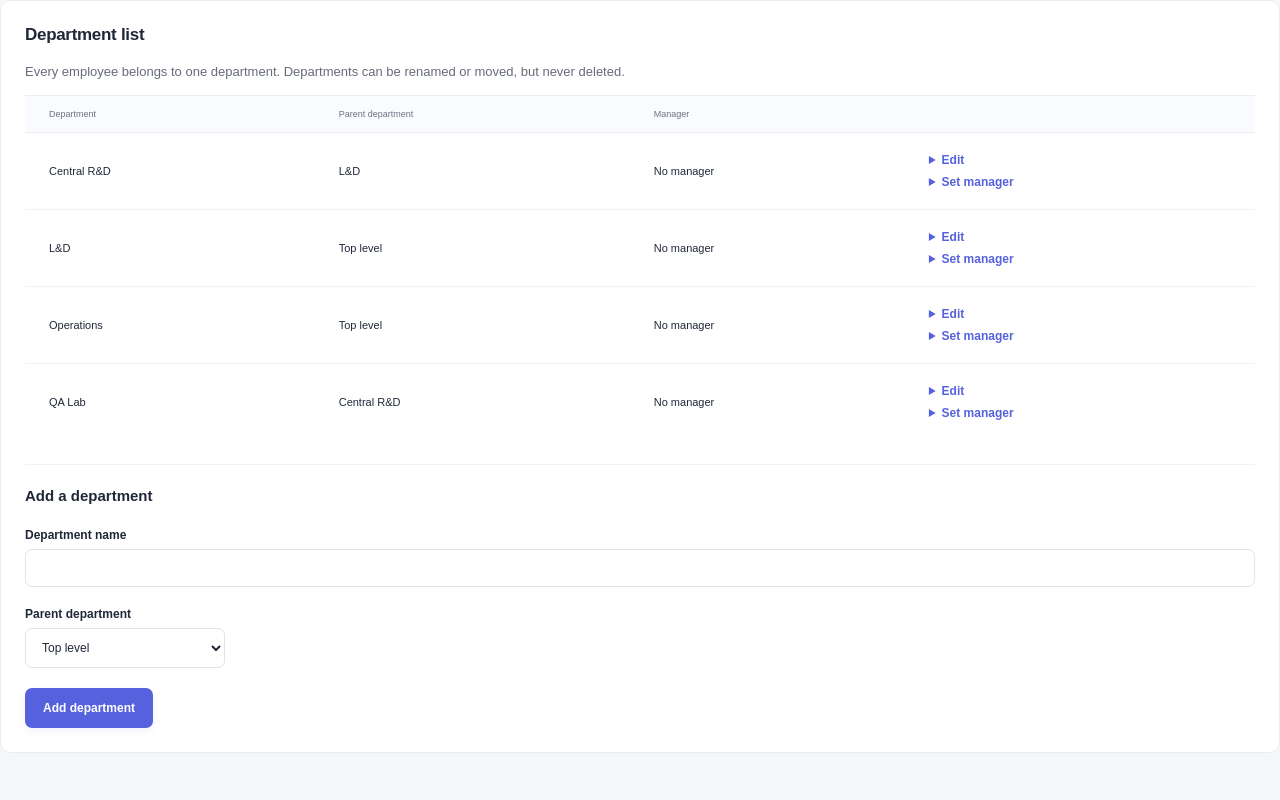
Test: DepartmentsPanel › keeps the typed name and parent after a refusal, so they can be corrected; clears them after a success
The image size is (1280, 800).
Type "central r&d" into the field labelled "Department name".
click(640, 568); type("central r&d")  # box [25,549,1255,587]
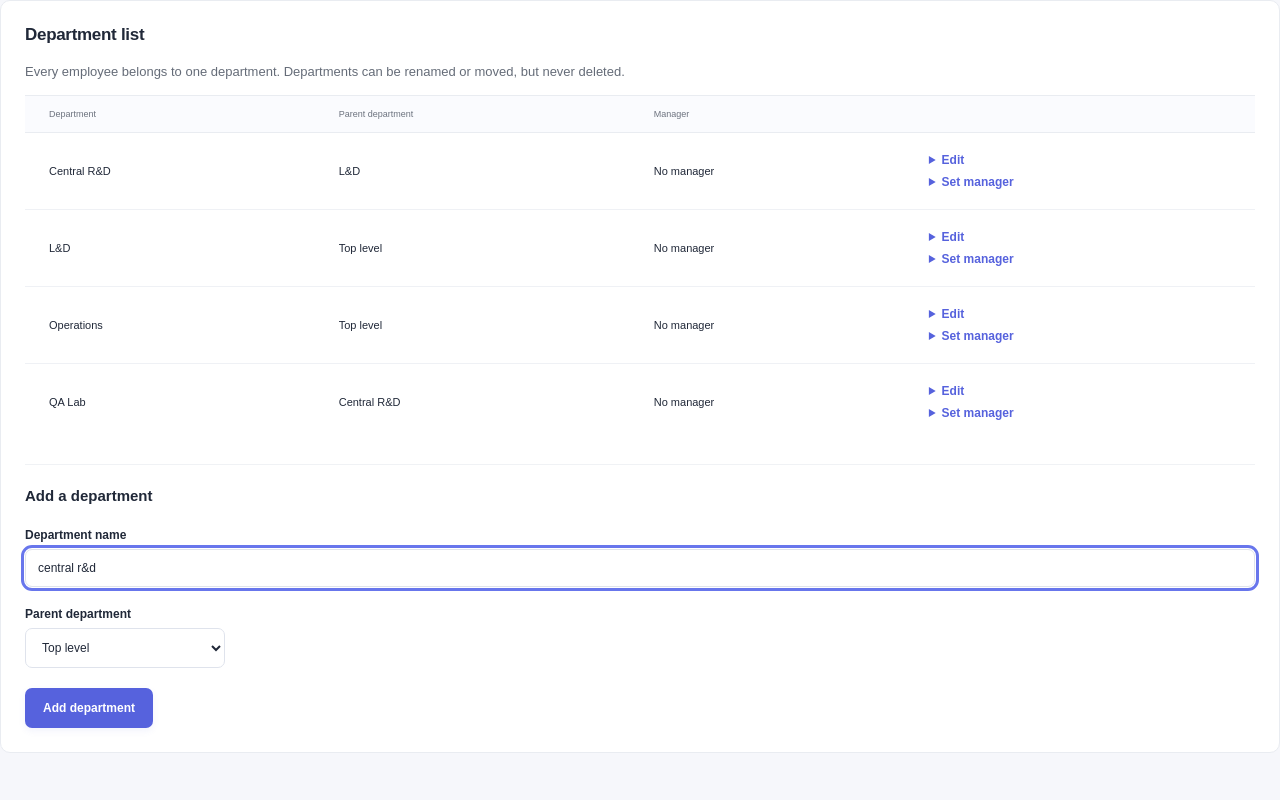
Select "L&D" in the dropdown labelled "Parent department" at (125, 648), box [25,628,225,668]
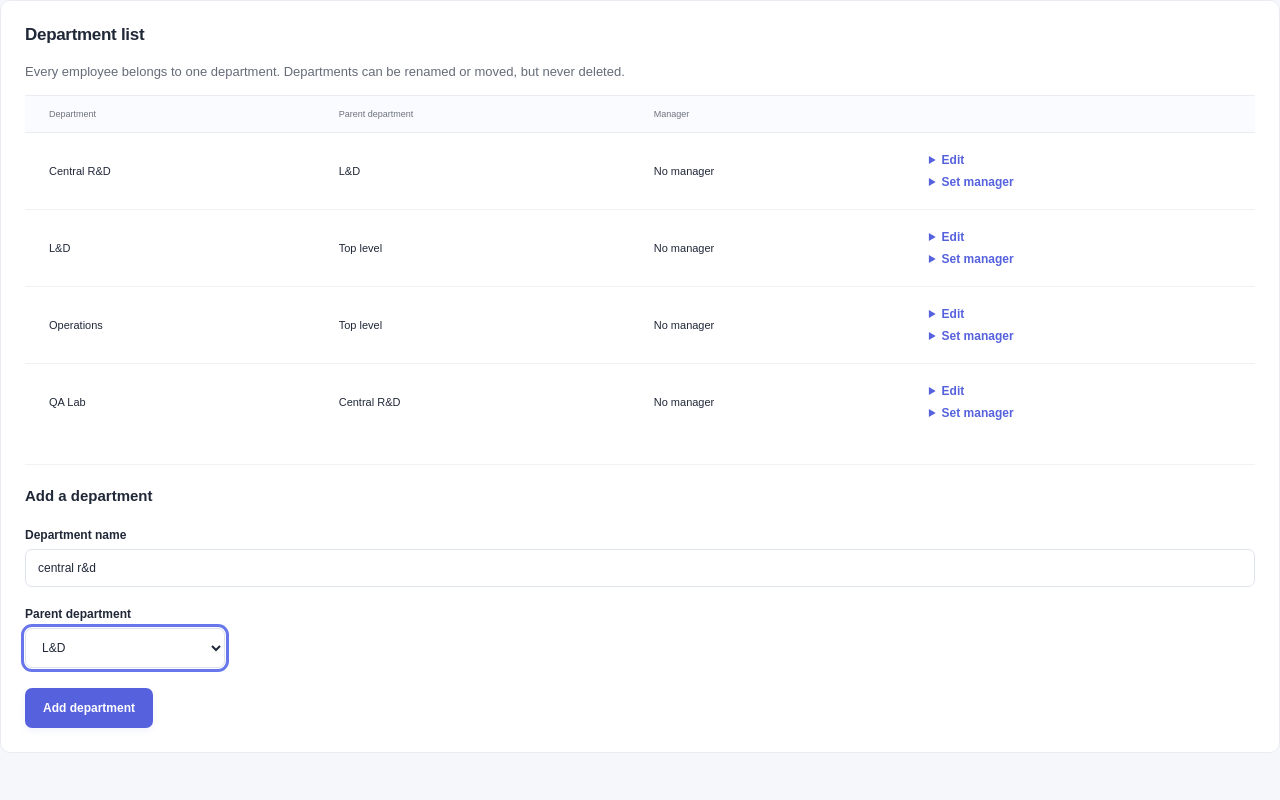
Click the button "Add department".
click(89, 708)  # box [25,688,153,728]
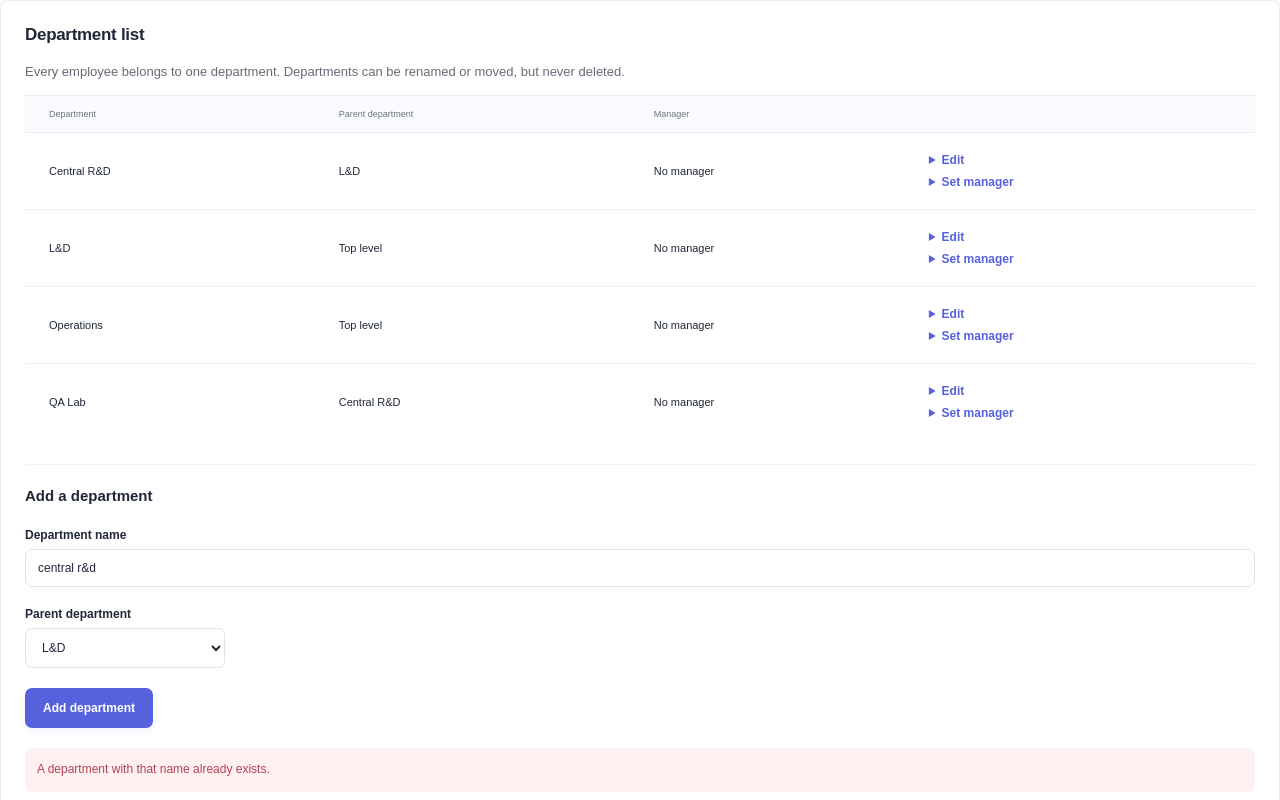
Expected: the field labelled "Department name" holds "central r&d"
Expected: the dropdown labelled "Parent department" shows "L&D", [25,628,225,668]
Expected: the message reads "A department with that name already exists.", [37,762,270,776]
Replace the text in the field labelled "Department name" with "Quality" at (640, 568), box [25,549,1255,587]
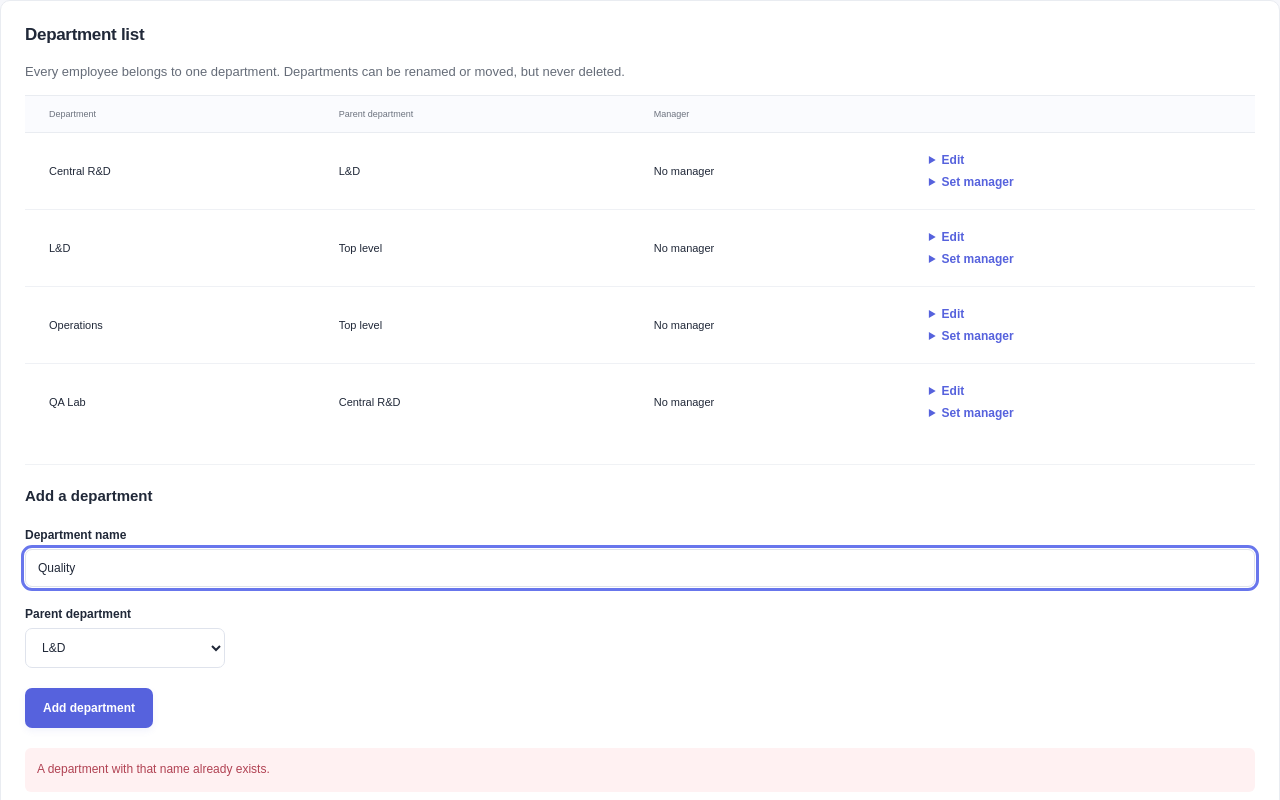
Click the button "Add department".
click(89, 708)  # box [25,688,153,728]
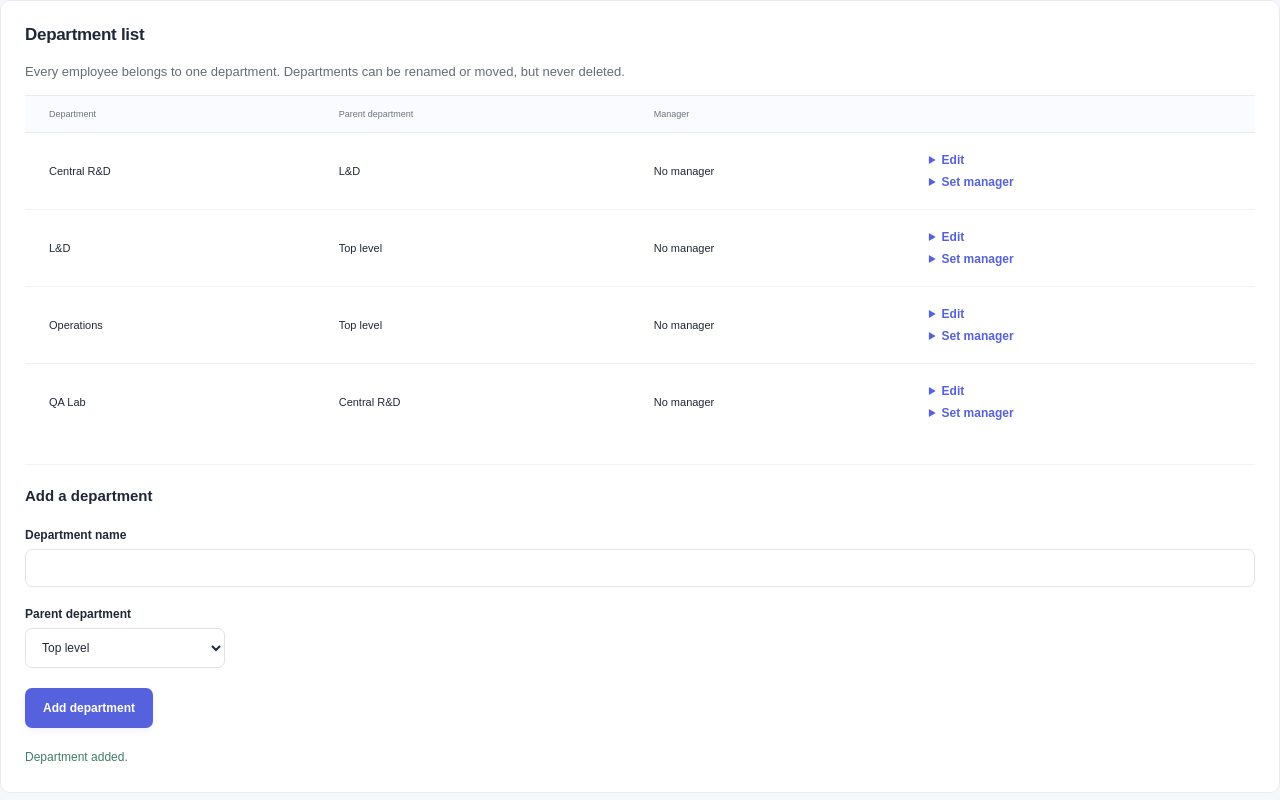
Expected: the text "Department added." is shown, [25,750,128,764]
Expected: the field labelled "Department name" is empty, [25,549,1255,587]
Expected: the dropdown labelled "Parent department" shows "Top level", [25,628,225,668]
